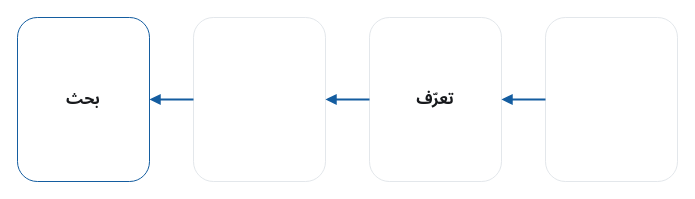
The diagram is 695 pixels wide and 199 high, and some of its shapes have lost their labels. The centre of each missing label's shape, as x and y in pixels:
التقاط: the point at 611,99
تصنيف: the point at 259,99
